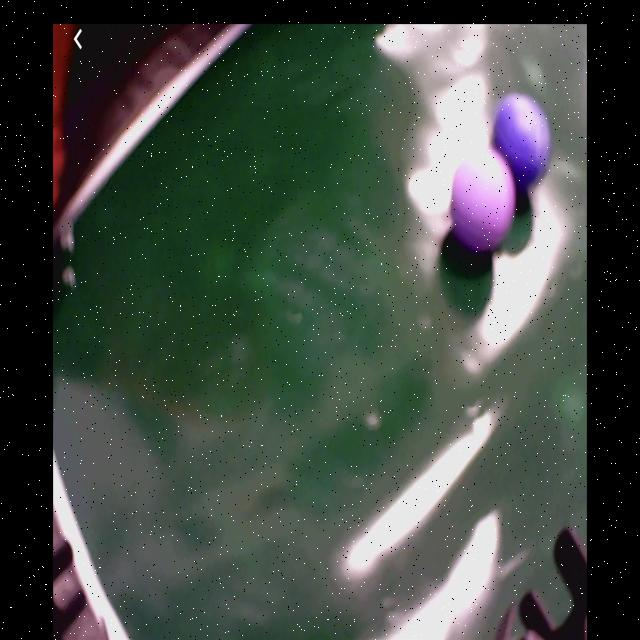ball: (451, 151, 518, 251), (489, 93, 554, 194)
